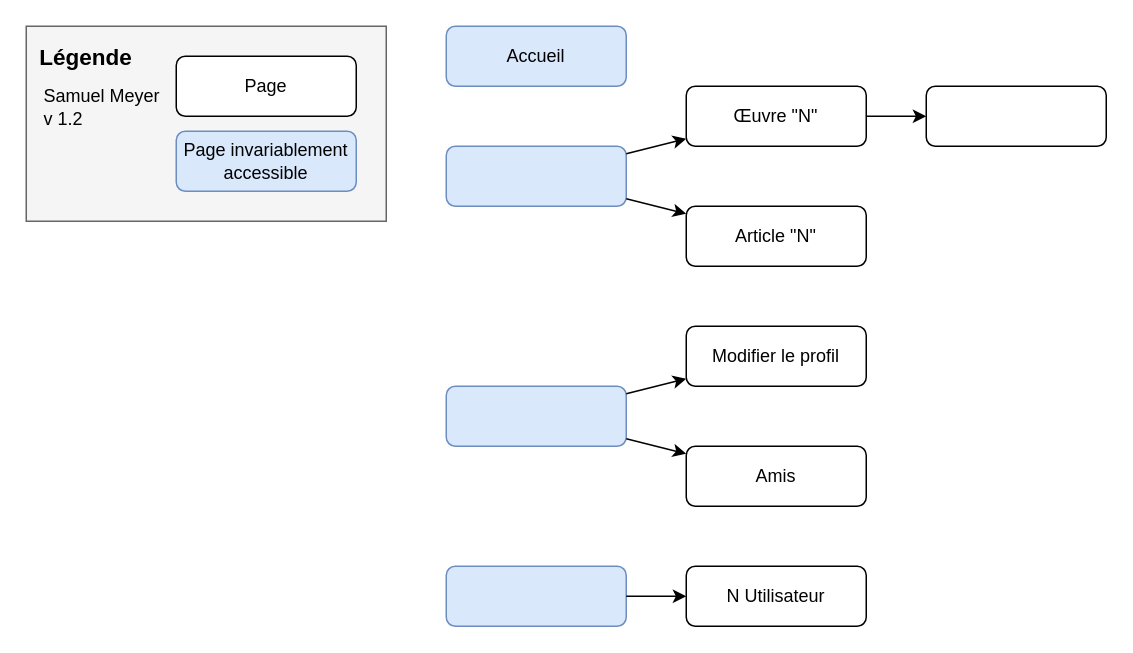
Image size: 1133x653. Some labels were removed from this diagram. The shapes that lost their labels are listed below. From the top down, each one's box as (x1, y1, x2, y2) in pixels, then its label:
(925, 85, 1106, 146): Ajout d'un article
(445, 145, 626, 206): Œuvres
(445, 385, 626, 446): Profil
(445, 565, 626, 626): Users
